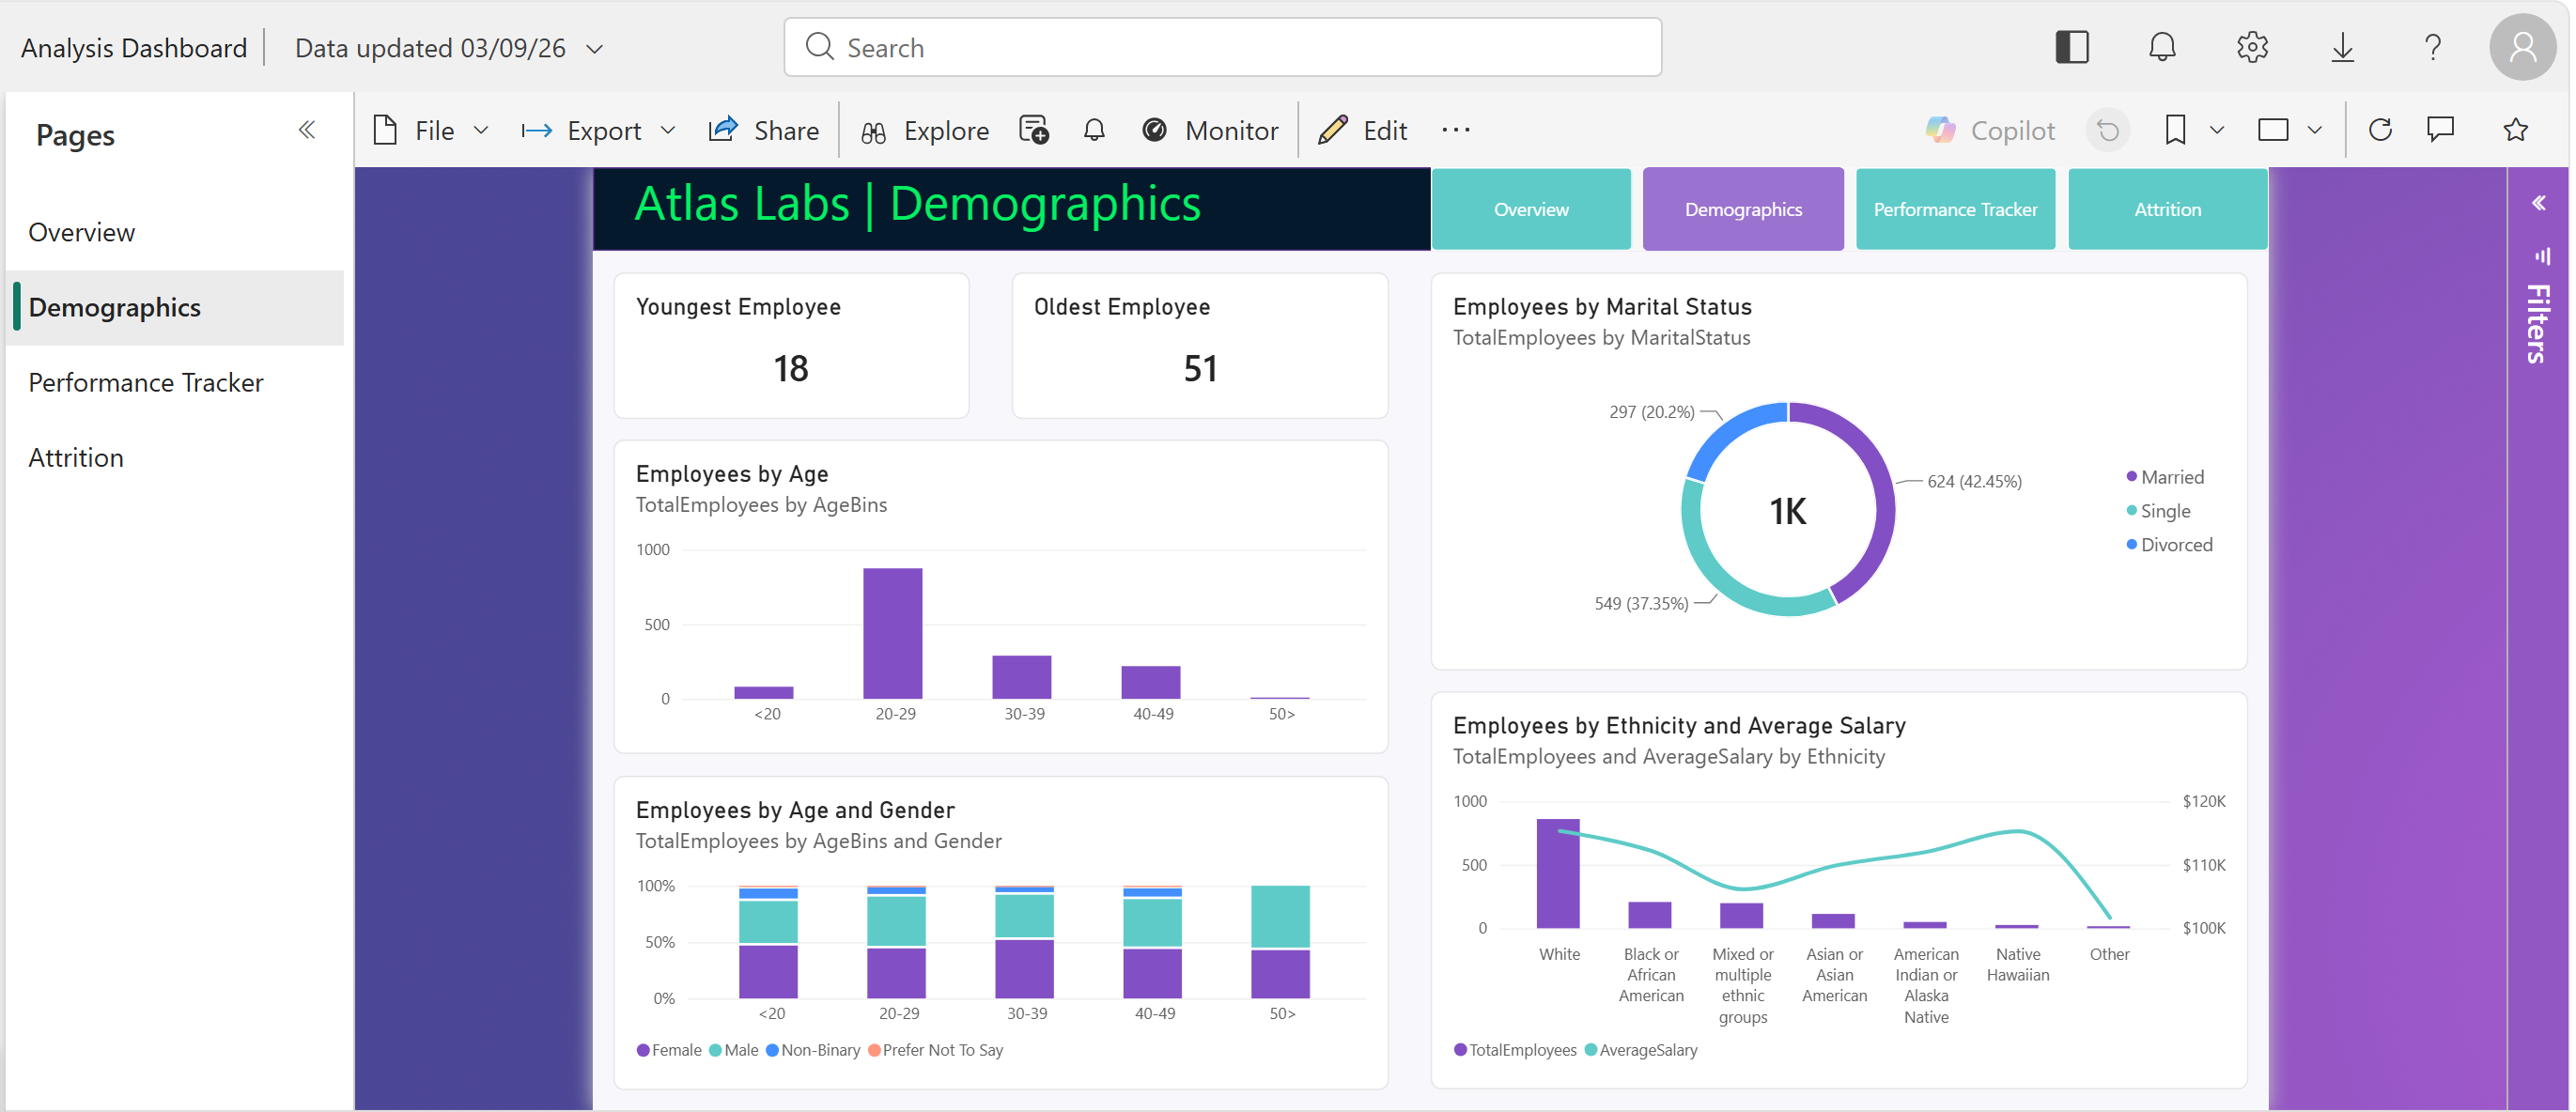

The dashboard page shown, as its layout file describes it:
{"tool":"powerbi","page":{"name":"Demographics","canvas":[1280,720],"ordinal":1},"visuals":[{"type":"card","title":"Youngest Employee","fields":{"Values":["Min(DimEmployee.Age)"]},"box":[16,80,272,112],"z":0},{"type":"card","title":"Oldest Employee","fields":{"Values":["Max(DimEmployee.Age)"]},"box":[320,80,288,112],"z":1000},{"type":"columnChart","title":"Employees by Age","fields":{"Category":["DimEmployee.AgeBins"],"Y":["_Measures.TotalEmployees"]},"box":[16,208,592,240],"z":2000},{"type":"hundredPercentStackedColumnChart","title":"Employees by Age and Gender","fields":{"Category":["DimEmployee.AgeBins"],"Series":["DimEmployee.Gender"],"Y":["_Measures.TotalEmployees"]},"box":[16,464,592,240],"z":3000},{"type":"donutChart","title":"Employees by Marital Status","fields":{"Category":["DimEmployee.MaritalStatus"],"Y":["_Measures.TotalEmployees"]},"box":[640,80,624,304],"z":4000},{"type":"lineStackedColumnComboChart","title":"Employees by Ethnicity and Average Salary","fields":{"Category":["DimEmployee.Ethnicity"],"Y":["_Measures.TotalEmployees"],"Y2":["_Measures.AverageSalary"]},"box":[640,400,624,304],"z":5000},{"type":"shape","box":[0,0,1280,64],"z":6000},{"type":"textbox","box":[32,0,624,64],"z":7000},{"type":"pageNavigator","box":[640,0,640,64],"z":8000}]}

Visuals, with their boxes on the page's 1280x720 design canvas (x1, y1, x2, y2). These are canvas units, not pixel positions in the 2576x1112 screenshot, which may show the page scaled, cropped or inside an application window:
"Youngest Employee" card: 16, 80, 288, 192
"Oldest Employee" card: 320, 80, 608, 192
"Employees by Age" columnChart: 16, 208, 608, 448
"Employees by Age and Gender" hundredPercentStackedColumnChart: 16, 464, 608, 704
"Employees by Marital Status" donutChart: 640, 80, 1264, 384
"Employees by Ethnicity and Average Salary" lineStackedColumnComboChart: 640, 400, 1264, 704
shape: 0, 0, 1280, 64
textbox: 32, 0, 656, 64
pageNavigator: 640, 0, 1280, 64
